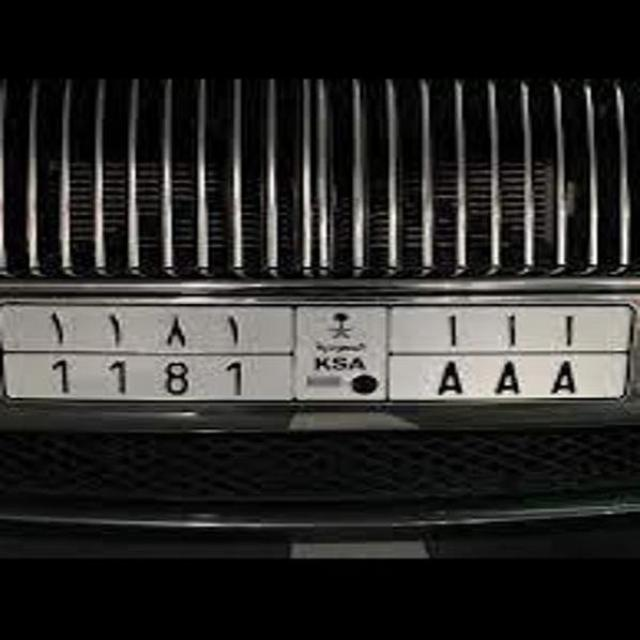license_plate: (34, 307, 598, 399)
